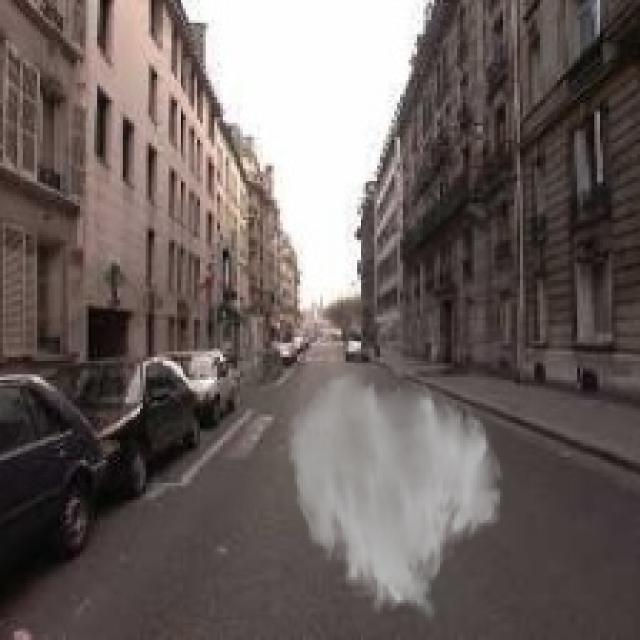Smoke: (286, 368, 506, 623)
